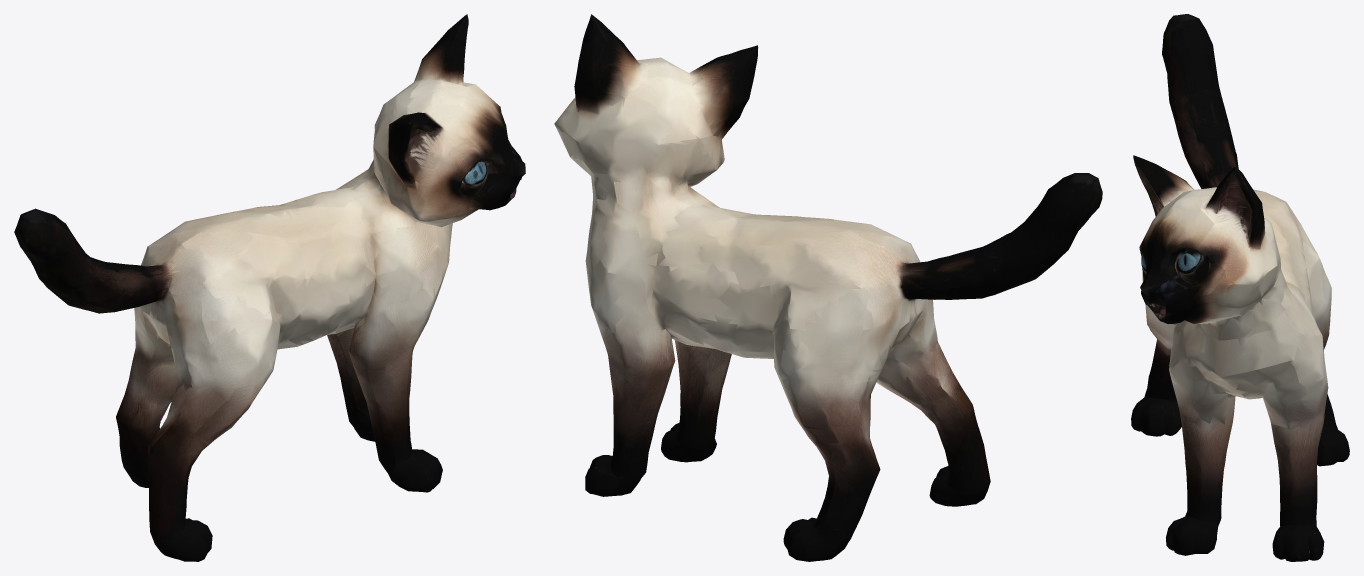
The model's file is TRILLBY.glb.
The picture shows the model from 3 angles, left to right: view 1: azimuth 30°, elevation 25°; view 2: azimuth 150°, elevation 25°; view 3: azimuth 270°, elevation 25°; orthographic projection. The views are drawn at different scales.
Visible parts, largest first — view 1: fit; view 2: fit; view 3: fit.
Part boxes in pixels (<box>): fit: <box>14,14,525,561</box>; fit: <box>554,14,1102,561</box>; fit: <box>1131,14,1349,561</box>.
Bounding box in the file's own units: 1.21 × 1 × 0.4752.
1 material, 1 textured.
